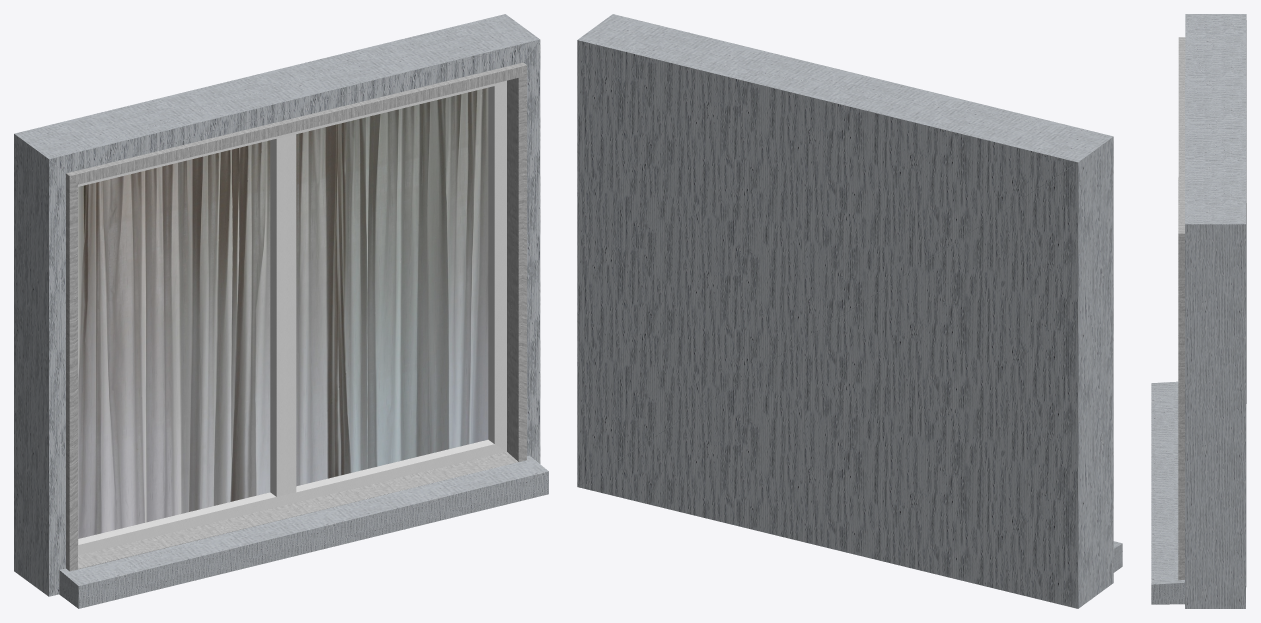
The model's file is Window2.glb.
3 views of the same model, side by side, from view 1: azimuth 30°, elevation 25°; view 2: azimuth 150°, elevation 25°; view 3: azimuth 270°, elevation 25° (orthographic). The views are drawn at different scales.
Visible parts, largest first — view 1: Cube, Cube.002; view 2: Cube; view 3: Cube, Cube.002.
Part boxes in pixels (x1,y1,x2,y2): Cube: [14, 14, 540, 596]; Cube.002: [59, 455, 548, 608]; Cube: [577, 14, 1113, 608]; Cube: [1178, 14, 1246, 608]; Cube.002: [1151, 381, 1184, 604].
Size of the model in its own units: 5.4 by 4.6 by 1.03.
4 materials, 4 textured.
